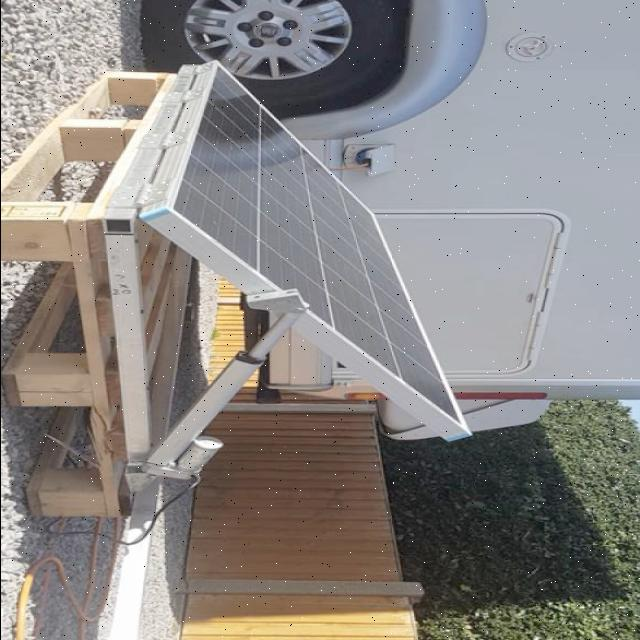Normal Solar Panel: (158, 58, 470, 432)
